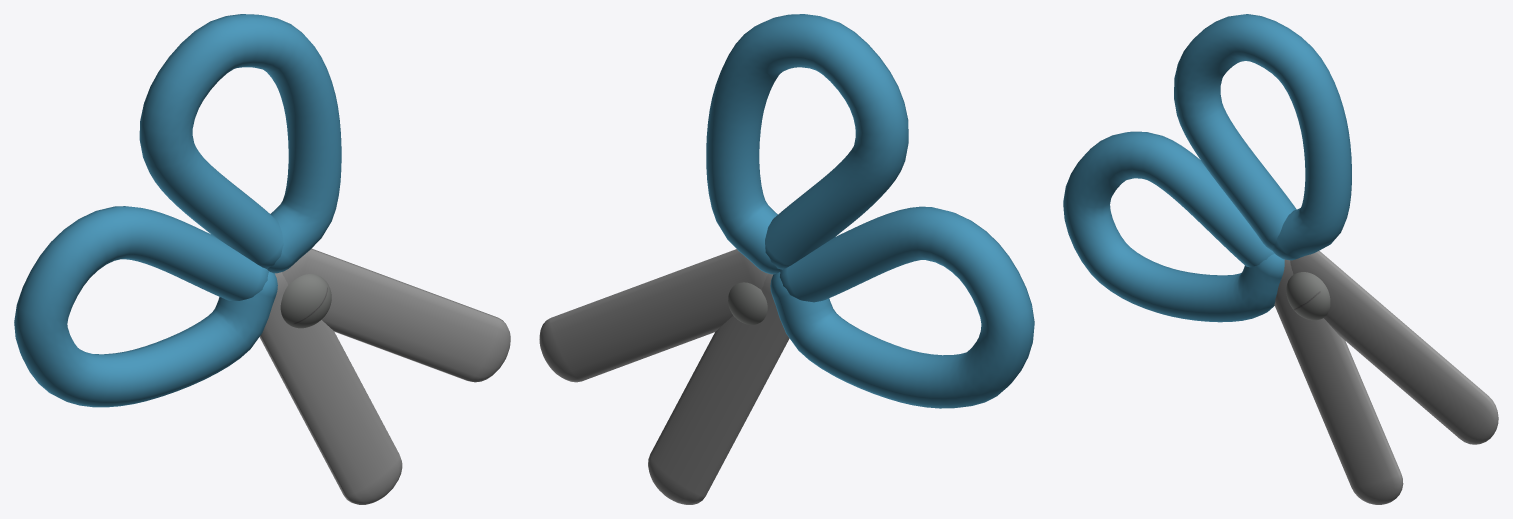
File: Scissors.fbx
3 views of the same model, side by side, from view 1: azimuth 30°, elevation 25°; view 2: azimuth 150°, elevation 25°; view 3: azimuth 330°, elevation 25° (orthographic). The views are drawn at different scales.
Parts seen in each view (by area): view 1: node_id44, node_id42, node_id46, node_id48, node_id50; view 2: node_id44, node_id42, node_id46, node_id48, node_id50; view 3: node_id42, node_id44, node_id46, node_id48, node_id50.
Boxes of the visible parts, <box> form: node_id44: <box>14,206,277,407</box>; node_id42: <box>139,14,341,273</box>; node_id46: <box>282,248,510,382</box>; node_id48: <box>259,272,402,504</box>; node_id50: <box>280,274,331,328</box>; node_id44: <box>770,206,1034,408</box>; node_id42: <box>706,14,908,274</box>; node_id46: <box>539,249,767,382</box>; node_id48: <box>648,273,789,504</box>; node_id50: <box>728,282,767,324</box>; node_id42: <box>1174,14,1351,260</box>; node_id44: <box>1063,131,1284,322</box>; node_id46: <box>1290,251,1498,444</box>; node_id48: <box>1274,259,1403,504</box>; node_id50: <box>1286,272,1330,320</box>.
Size of the model in its own units: 0.4765 by 0.4801 by 0.0471.
Materials: 5 (1 with a texture image).
